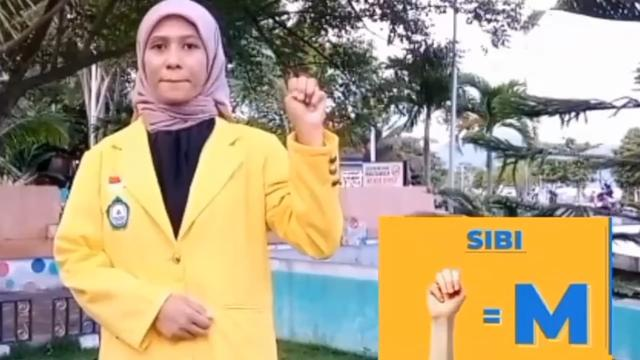M: (280, 74, 332, 136), (425, 269, 467, 319)
